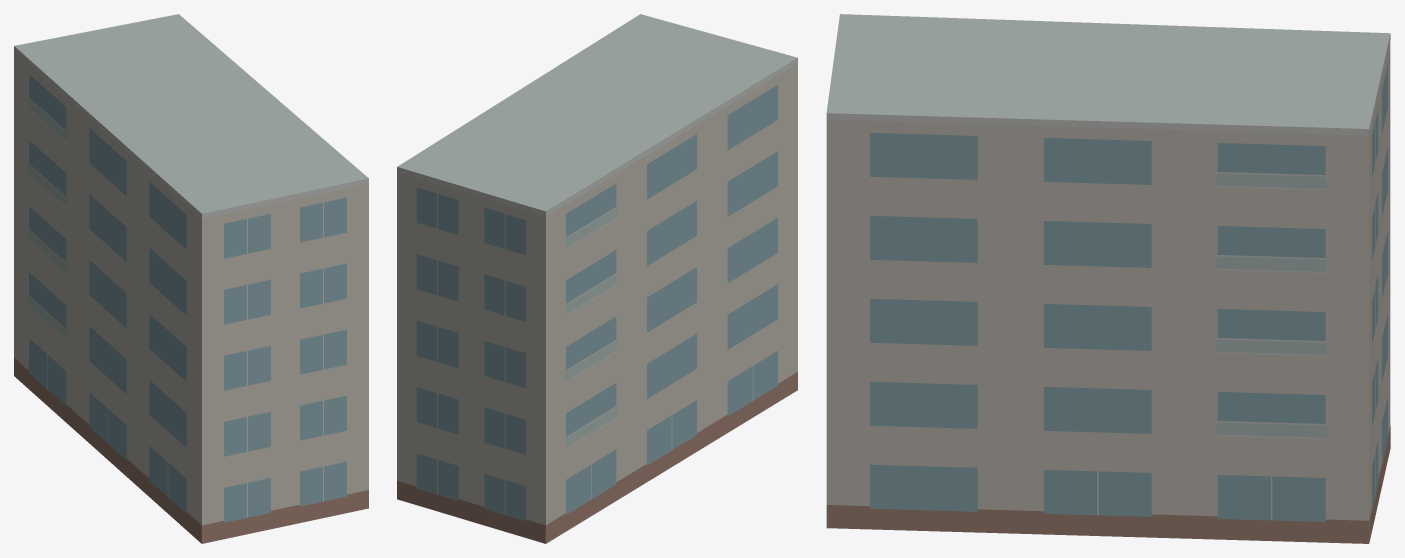
The model's file is survey-upis-32533191.glb.
3 views of the same model, side by side, from view 1: azimuth 30°, elevation 25°; view 2: azimuth 150°, elevation 25°; view 3: azimuth 270°, elevation 25° (orthographic). The views are drawn at different scales.
Parts seen in each view (by area): view 1: survey-upis-32533191.tmp; view 2: survey-upis-32533191.tmp; view 3: survey-upis-32533191.tmp.
Boxes of the visible parts, x1=… form: survey-upis-32533191.tmp: x1=14, y1=14, x2=368, y2=543; survey-upis-32533191.tmp: x1=397, y1=14, x2=797, y2=543; survey-upis-32533191.tmp: x1=826, y1=14, x2=1390, y2=543.
Size of the model in its own units: 9.07 by 15.25 by 18.8.
